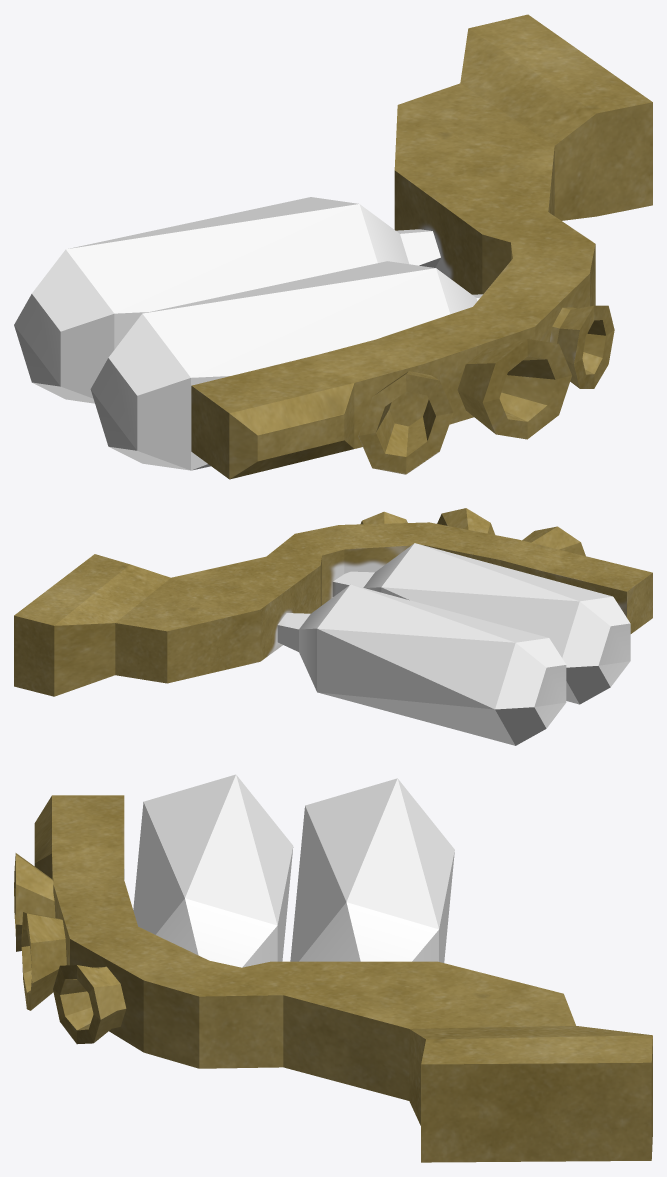
The model's file is lowGravity_thruster.fbx.
3 views of the same model, one above another, from view 1: azimuth 30°, elevation 25°; view 2: azimuth 150°, elevation 25°; view 3: azimuth 270°, elevation 25° (orthographic). The views are drawn at different scales.
Visible parts, largest first — view 1: Low_GravityThrusters_stock1; view 2: Low_GravityThrusters_stock1; view 3: Low_GravityThrusters_stock1.
Boxes of the visible parts, x1,y1,x2,y2 form: Low_GravityThrusters_stock1: [14, 14, 652, 479]; Low_GravityThrusters_stock1: [14, 508, 652, 745]; Low_GravityThrusters_stock1: [14, 774, 652, 1162].
Size of the model in its own units: 65.41 by 14.5 by 58.78.
